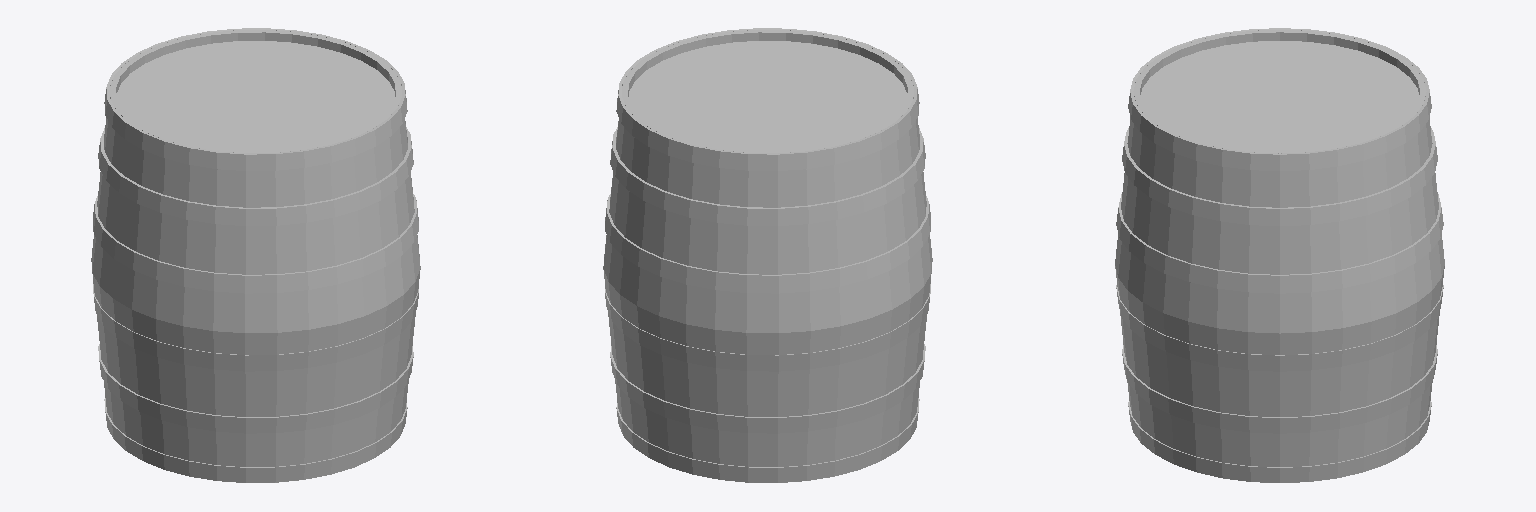
File: delivery.obj
3 views of the same model, side by side, from view 1: azimuth 30°, elevation 25°; view 2: azimuth 150°, elevation 25°; view 3: azimuth 270°, elevation 25° (orthographic).
Visible parts, largest first — view 1: Cylinder; view 2: Cylinder; view 3: Cylinder.
Boxes of the visible parts, <box> form: Cylinder: <box>91,28,420,482</box>; Cylinder: <box>603,28,932,482</box>; Cylinder: <box>1115,28,1444,482</box>.
Size of the model in its own units: 0.9558 by 1.05 by 0.9558.